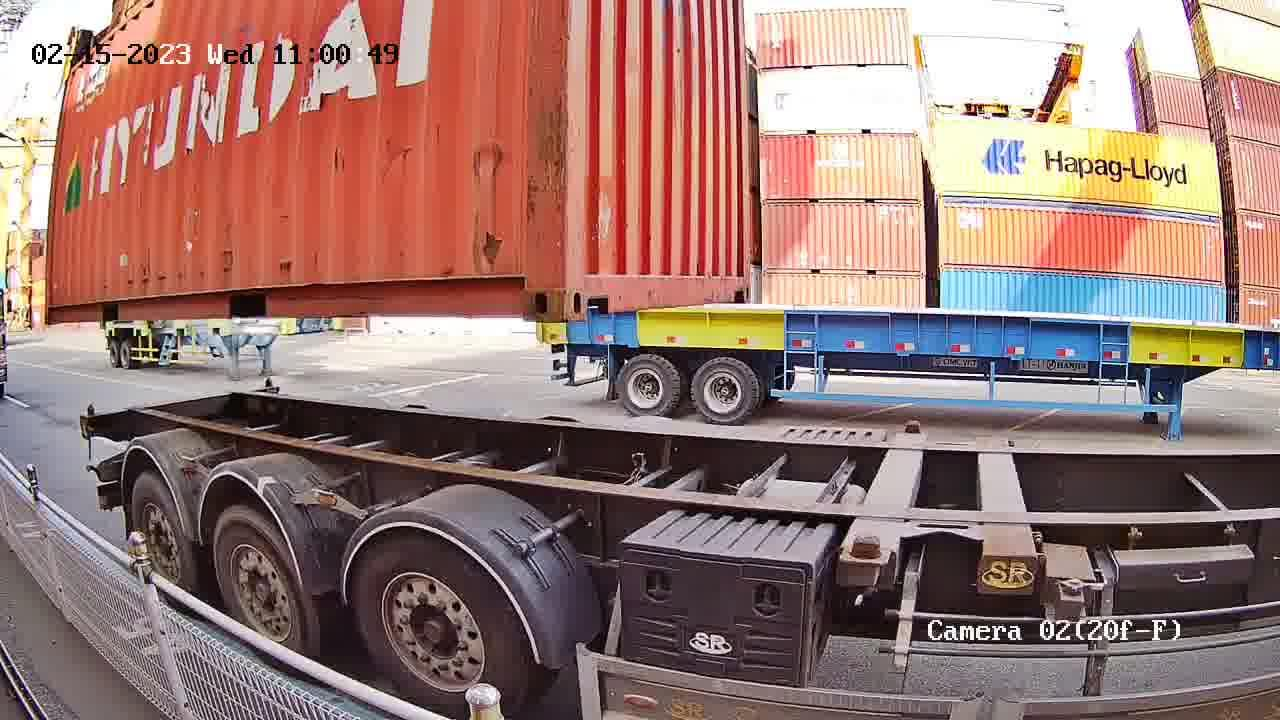Chassis: (837, 433, 928, 563)
Cone: (835, 538, 893, 595), (80, 401, 98, 439), (897, 421, 924, 445)
Hole_L: (558, 236, 614, 321)
Hole_R: (494, 236, 560, 321), (714, 254, 752, 301)
Tire: (356, 540, 529, 711), (214, 514, 317, 654), (129, 475, 196, 585)
